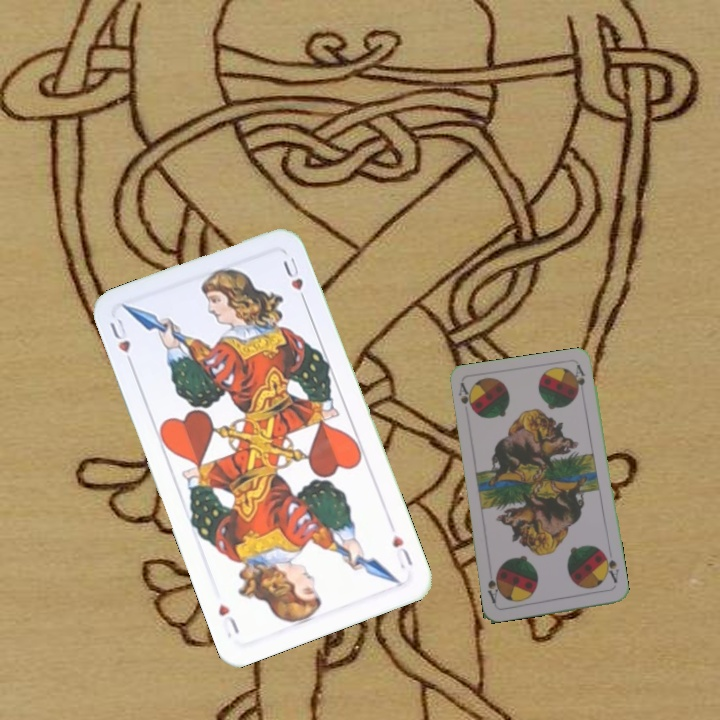HU: (105, 314, 137, 371), (388, 530, 415, 572)
SA: (599, 549, 621, 585), (454, 379, 476, 415)
